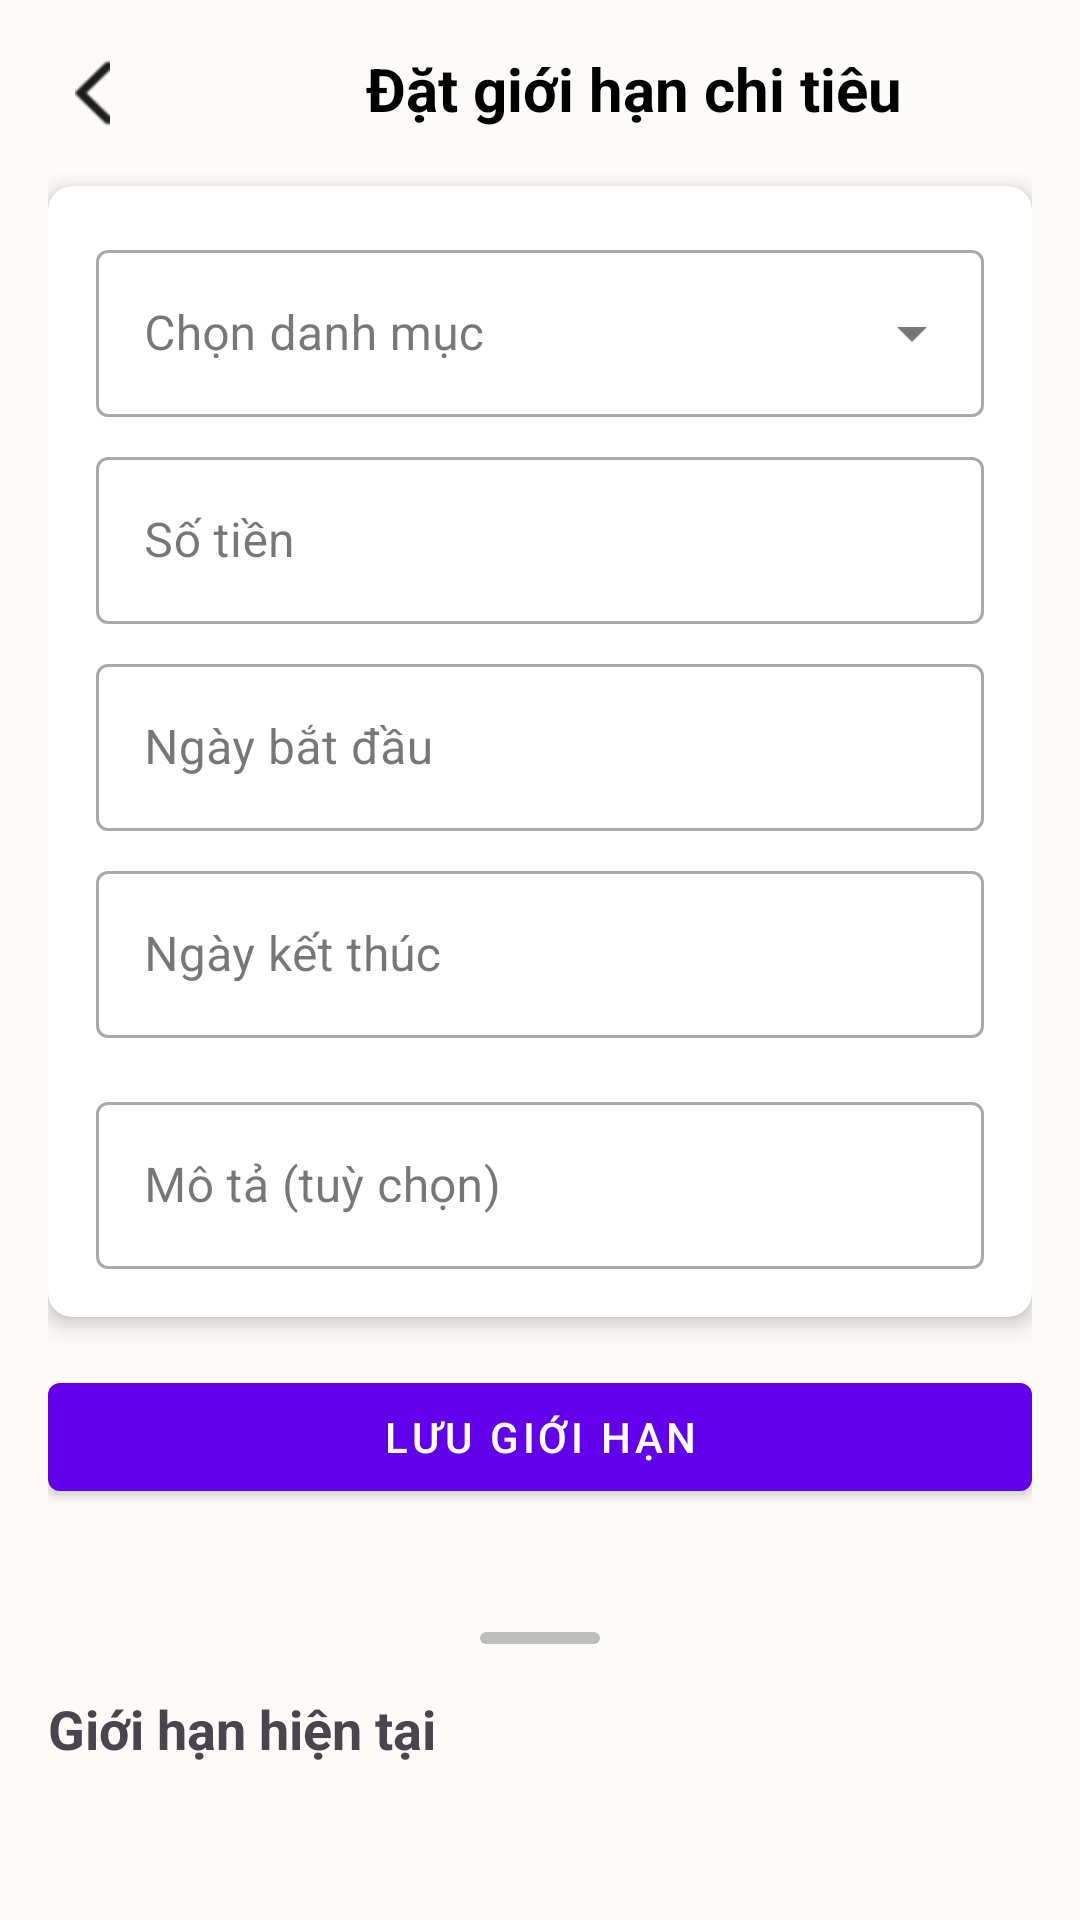

Locate icon controls on the screen. Image size 1080 x 1920, boxes as (x1, y1, x2, y2).
icreturn: (75, 61, 110, 125)
